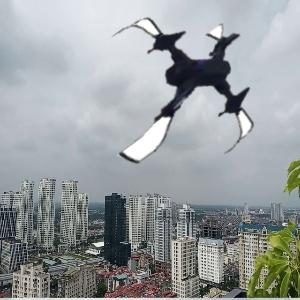drone: (91, 4, 266, 179)
